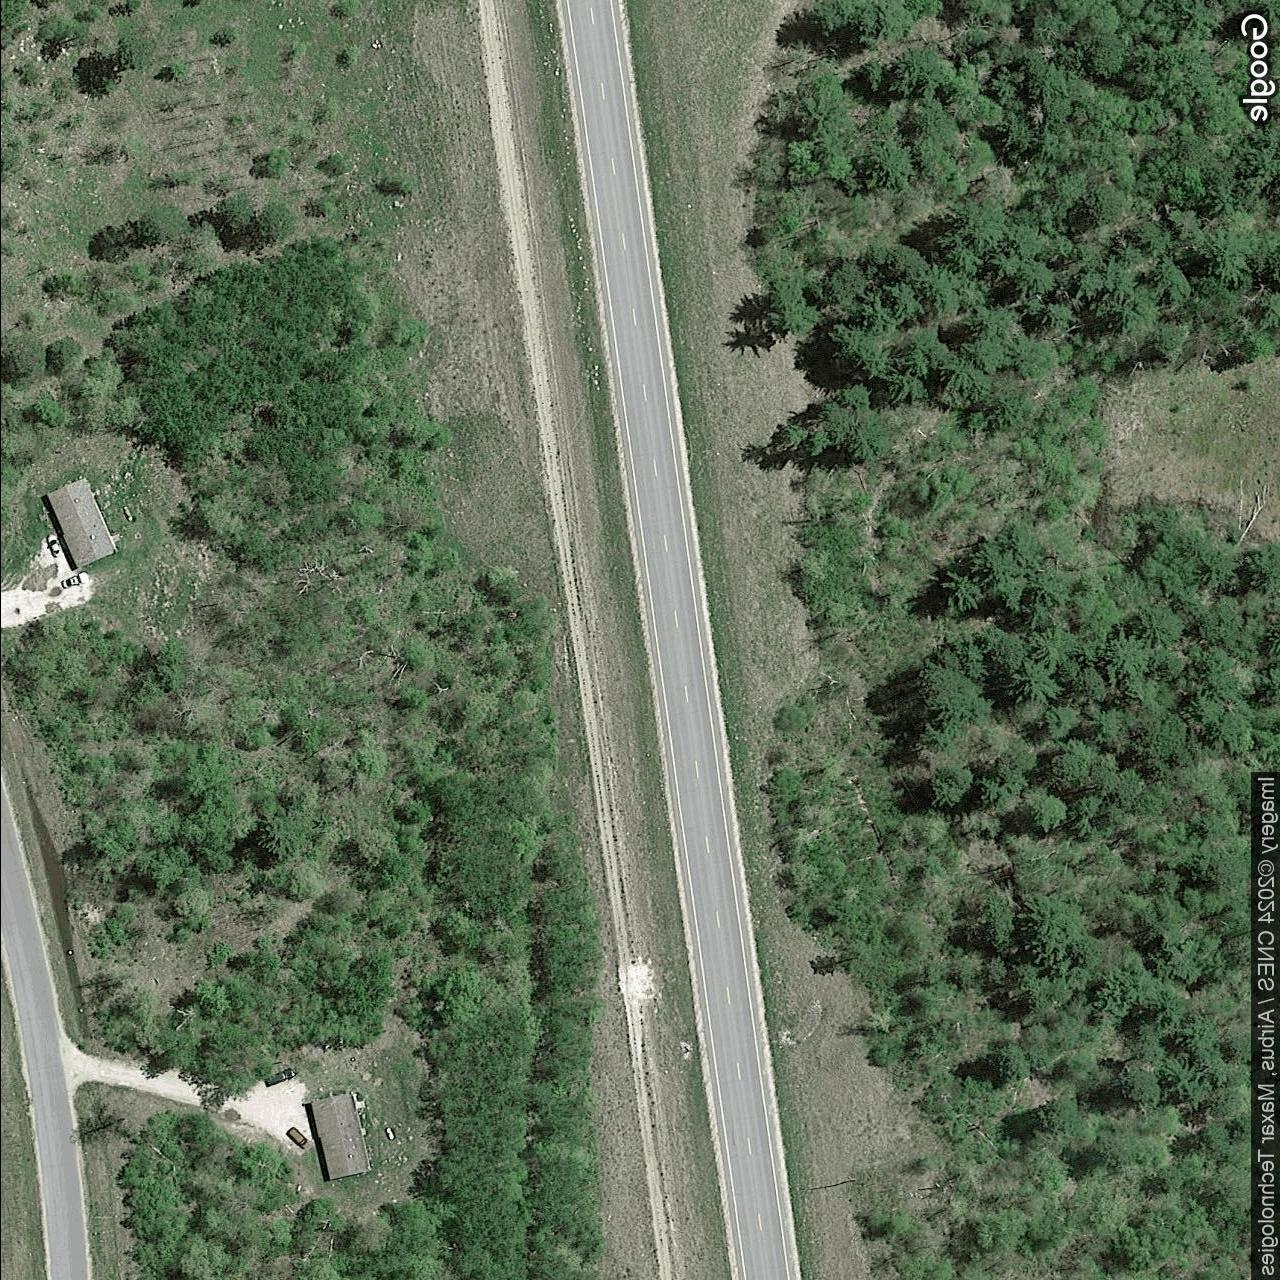House: (45, 477, 120, 570), (309, 1092, 373, 1182)
Propane: (120, 504, 136, 525), (381, 1124, 396, 1143)
